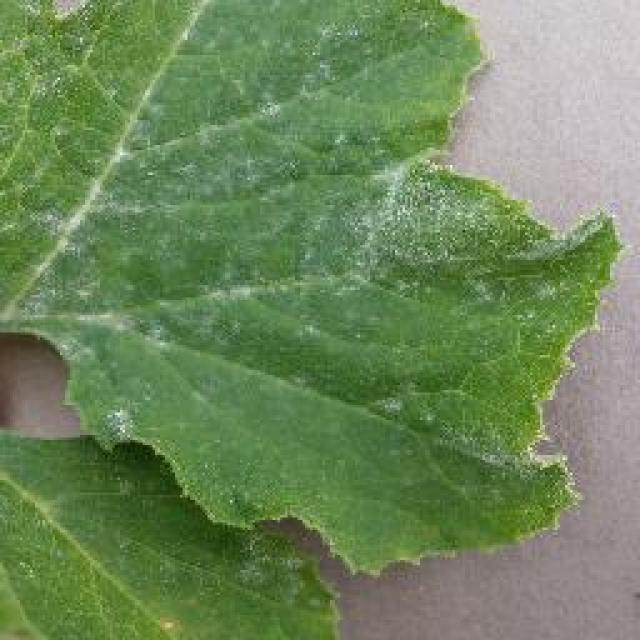Squ_Powdery_mildew: (34, 39, 478, 364)
